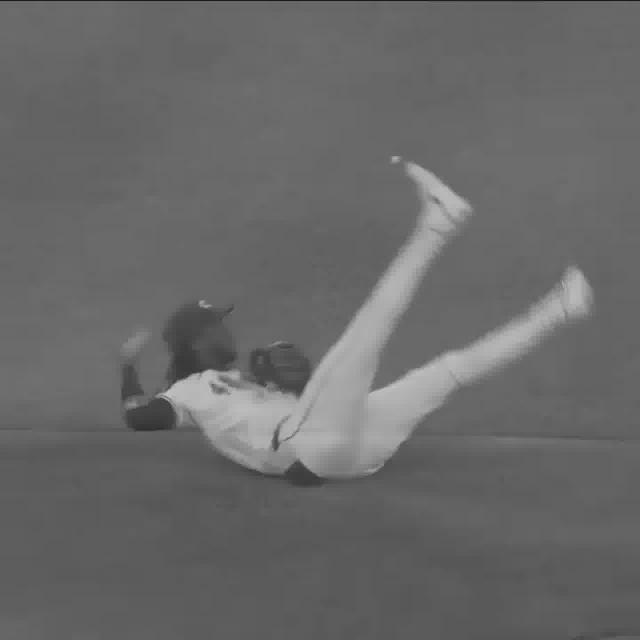baseball_glove: (245, 337, 318, 396)
shoe: (404, 163, 476, 225), (552, 259, 595, 322)
